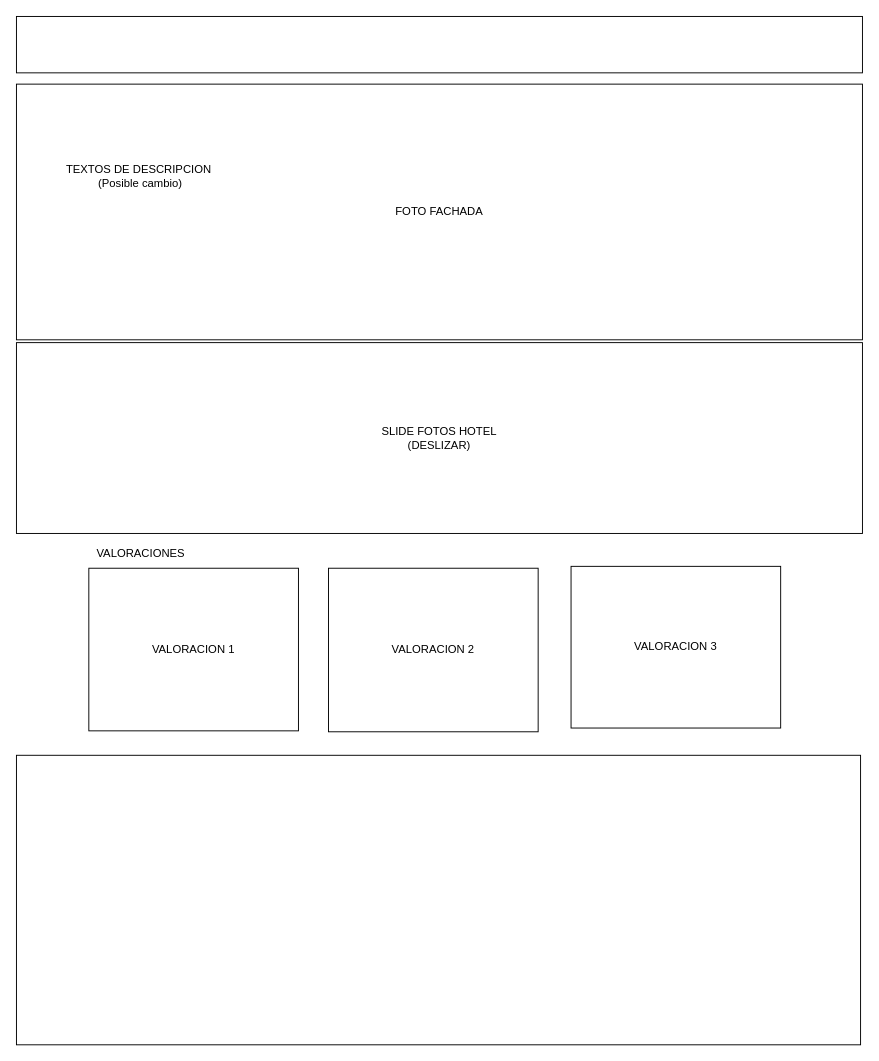
The diagram is 879 pixels wide and 1061 high, and some of its shapes have lost their labels. Each missing label, with the centre of its shape:
"FOOTER" belongs at [438,899].
"HEADER CON OPCIONES" belongs at [439,44].
